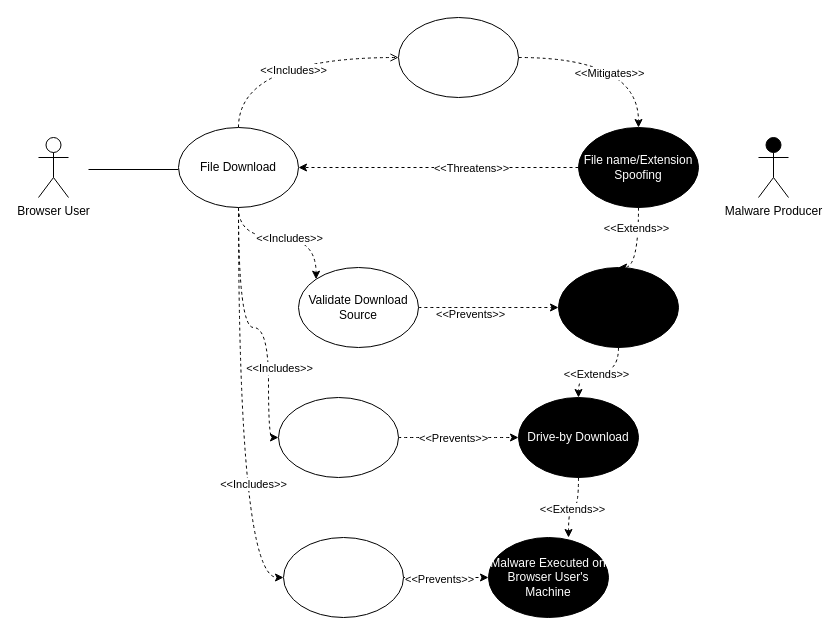
This 839x635 diagram has some shape labels left out. The shapes that lost their labels are listed below. From the top down, each one's centre as x and y in pixels, then its label:
point 458,57: Display Full Filename
point 618,307: Download Redirect
point 338,437: Download Confirm Popup
point 343,577: Scan File for Virus
